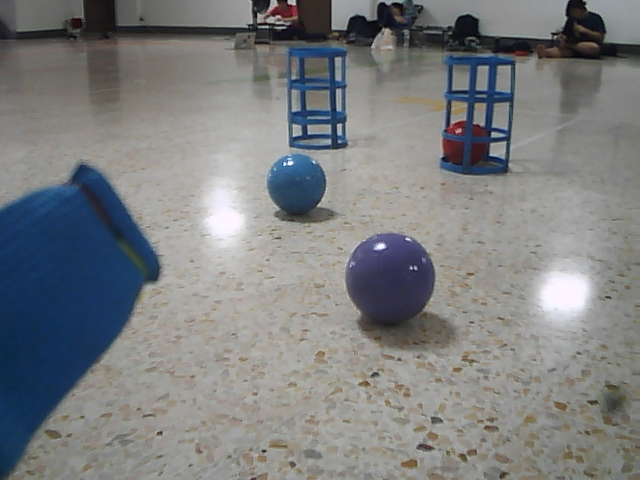Blue ball: (264, 151, 328, 219)
Cyro: (438, 50, 519, 181), (283, 45, 356, 153)
Purple ball: (344, 231, 438, 327)
Red ball: (441, 119, 492, 170)
